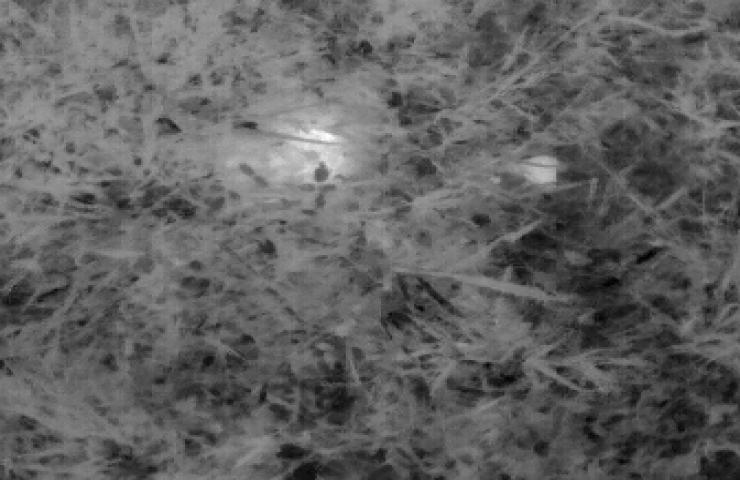landmines: (270, 124, 356, 188)
